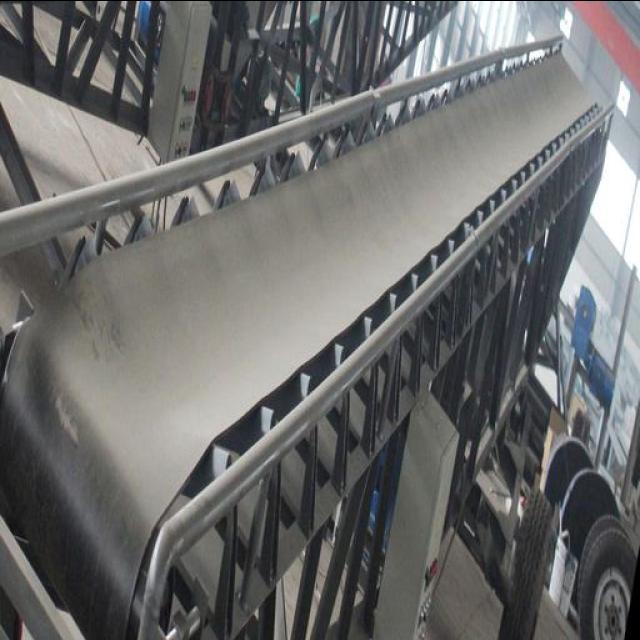conveyor: (0, 48, 590, 640)
